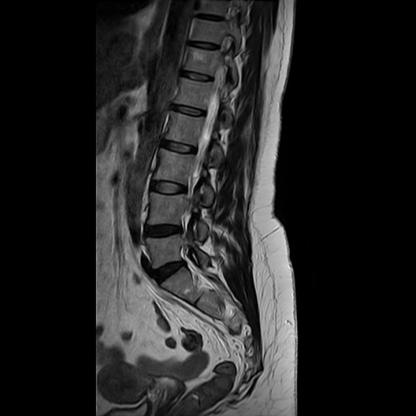Disc Bulgerotation: (145, 259, 195, 286), (142, 222, 189, 245)
